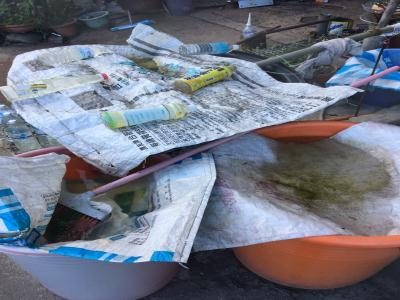bottle: (98, 101, 201, 130), (172, 64, 239, 96), (35, 42, 102, 68), (177, 41, 241, 58)
plastic_bag: (1, 153, 212, 262), (206, 128, 400, 241)
